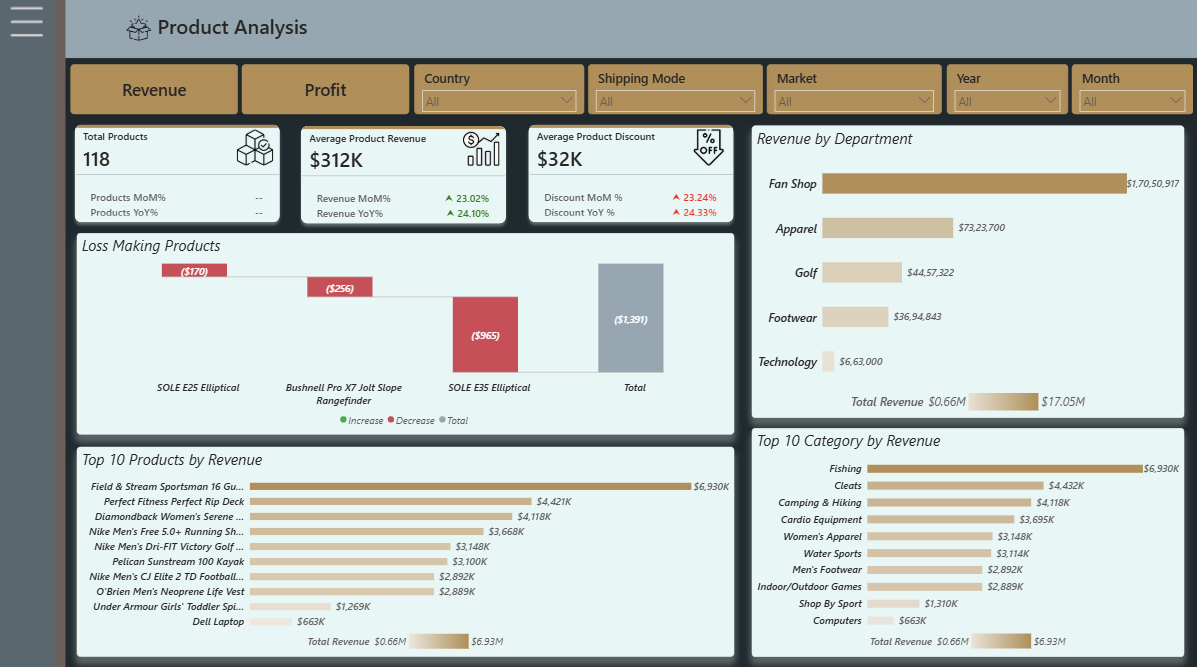

Layout of this report page (visuals, bound fields, positions):
{"tool":"powerbi","page":{"name":"Product Analysis","canvas":[1920,1080],"ordinal":3},"visuals":[{"type":"actionButton","title":"Close Button Cover","box":[464,0,1456,1078],"z":0,"group":"g2"},{"type":"actionButton","title":"Operations & Shippings","box":[76,478,344,60],"z":0,"group":"g1"},{"type":"actionButton","title":"Close Button","box":[464,0,80,80],"z":1000,"group":"g2"},{"type":"actionButton","title":"Product Analysis","box":[76,389.5,344,60],"z":1000,"group":"g1"},{"type":"shape","title":"Page Navigation (Menu Bar)","box":[106,0,360,1078],"z":2000,"group":"g2"},{"type":"actionButton","title":"Customer Analysis","box":[76,301,344,60],"z":2000,"group":"g1"},{"type":"slicer","fields":{"Values":["gold fact_orders_cleaned_v2.order_date.Variation.Date Hierarchy.Year"]},"box":[1517.3,106,194,80],"z":3000},{"type":"group","id":"g1","title":"Pages","box":[76,124,344,414],"z":3000,"group":"g2"},{"type":"actionButton","title":"Executive Overview","box":[76,212.5,344,60],"z":3000,"group":"g1"},{"type":"slicer","fields":{"Values":["gold fact_orders_cleaned_v2.order_date.Variation.Date Hierarchy.Month"]},"box":[1718,106,194,80],"z":4000},{"type":"actionButton","title":"Home","box":[76,124,344,60],"z":4000,"group":"g1"},{"type":"slicer","fields":{"Values":["gold fact_orders_cleaned_v2.market"]},"box":[1230.7,106,280,80],"z":5000},{"type":"slicer","fields":{"Values":["gold fact_orders_cleaned_v2.shipping_mode"]},"box":[944,106,280,80],"z":6000},{"type":"slicer","fields":{"Values":["gold fact_orders_cleaned_v2.order_country"]},"box":[665.3,106,272,80],"z":7000},{"type":"cardVisual","title":"Total Products Card","fields":{"Data":["Product Measures.Total_Products"]},"box":[106,186,362,190],"z":9000},{"type":"cardVisual","title":"Revenue Card(Product)","fields":{"Data":["Product Analysis Measure.Revenue Per Product"]},"box":[468,188,362,190],"z":10500},{"type":"cardVisual","title":"Avg product discount card","fields":{"Data":["Product Analysis Measure.Average Product Discount"]},"box":[832,186,362,190],"z":11000},{"type":"clusteredBarChart","title":"Top 10 Category by Revenue","fields":{"Category":["gold dim_products.category_name"],"Y":["Measure's Table.Total Revenue"]},"box":[1206,688,692,366],"z":14500},{"type":"clusteredBarChart","title":"Revenue by Department","fields":{"Category":["gold dim_departments.department_name"],"Y":["Measure's Table.Total Revenue"]},"box":[1206,204,692,468],"z":16500},{"type":"clusteredBarChart","title":"Top 10 Products by Revenue","fields":{"Y":["Executive Measure.Total Revenue"],"Category":["gold dim_products.product_name"]},"box":[126,718,1052,336],"z":18000},{"type":"actionButton","title":"Revenue Button","box":[116,106,268,80],"z":20000},{"type":"actionButton","title":"Profit Button","box":[390.7,106,268,80],"z":21000},{"type":"waterfallChart","title":"Loss Making Products","fields":{"Category":["gold dim_products.product_name"],"Y":["Executive Measure.Total Profit"]},"box":[126,376,1052,322],"z":22000},{"type":"textbox","box":[250,18,306,60],"z":23000},{"type":"image","box":[198,28,54,40],"z":24000},{"type":"group","id":"g2","title":"Menu Objects","box":[76,0,1844,1078],"z":24500},{"type":"actionButton","title":"Menu Button","box":[15,7,60,60],"z":25000}]}

Visuals, with their boxes in screenshot pixels (x1, y1, x2, y2), scaled from the page's 1920x1080 canvas onto the 1197x667 screenshot:
"Close Button Cover" actionButton: <bbox>289, 0, 1196, 666</bbox>
"Operations & Shippings" actionButton: <bbox>47, 295, 262, 332</bbox>
"Close Button" actionButton: <bbox>289, 0, 339, 49</bbox>
"Product Analysis" actionButton: <bbox>47, 241, 262, 278</bbox>
"Page Navigation (Menu Bar)" shape: <bbox>66, 0, 291, 666</bbox>
"Customer Analysis" actionButton: <bbox>47, 186, 262, 223</bbox>
slicer - gold fact_orders_cleaned_v2.order_date.Variation.Date Hierarchy.Year: <bbox>946, 65, 1067, 115</bbox>
"Pages" group: <bbox>47, 77, 262, 332</bbox>
"Executive Overview" actionButton: <bbox>47, 131, 262, 168</bbox>
slicer - gold fact_orders_cleaned_v2.order_date.Variation.Date Hierarchy.Month: <bbox>1071, 65, 1192, 115</bbox>
"Home" actionButton: <bbox>47, 77, 262, 114</bbox>
slicer - gold fact_orders_cleaned_v2.market: <bbox>767, 65, 942, 115</bbox>
slicer - gold fact_orders_cleaned_v2.shipping_mode: <bbox>589, 65, 763, 115</bbox>
slicer - gold fact_orders_cleaned_v2.order_country: <bbox>415, 65, 584, 115</bbox>
"Total Products Card" cardVisual: <bbox>66, 115, 292, 232</bbox>
"Revenue Card(Product)" cardVisual: <bbox>292, 116, 517, 233</bbox>
"Avg product discount card" cardVisual: <bbox>519, 115, 744, 232</bbox>
"Top 10 Category by Revenue" clusteredBarChart: <bbox>752, 425, 1183, 651</bbox>
"Revenue by Department" clusteredBarChart: <bbox>752, 126, 1183, 415</bbox>
"Top 10 Products by Revenue" clusteredBarChart: <bbox>79, 443, 734, 651</bbox>
"Revenue Button" actionButton: <bbox>72, 65, 239, 115</bbox>
"Profit Button" actionButton: <bbox>244, 65, 411, 115</bbox>
"Loss Making Products" waterfallChart: <bbox>79, 232, 734, 431</bbox>
textbox: <bbox>156, 11, 347, 48</bbox>
image: <bbox>123, 17, 157, 42</bbox>
"Menu Objects" group: <bbox>47, 0, 1196, 666</bbox>
"Menu Button" actionButton: <bbox>9, 4, 47, 41</bbox>
